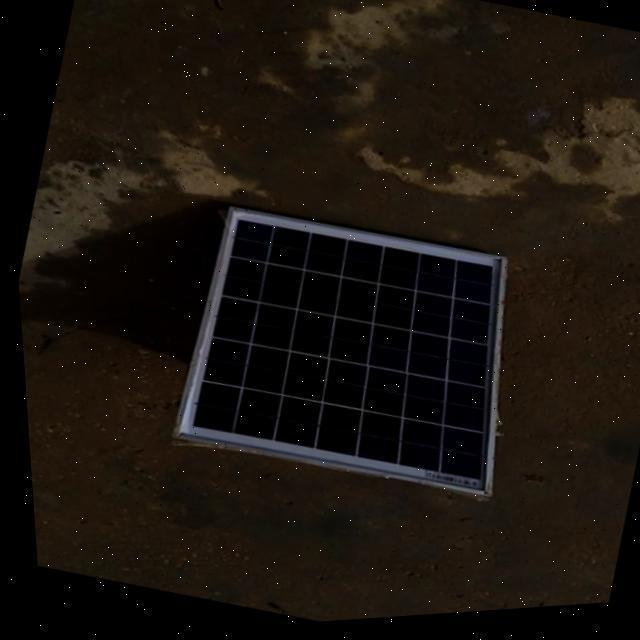Normal Solar Panel: (153, 186, 544, 522)
